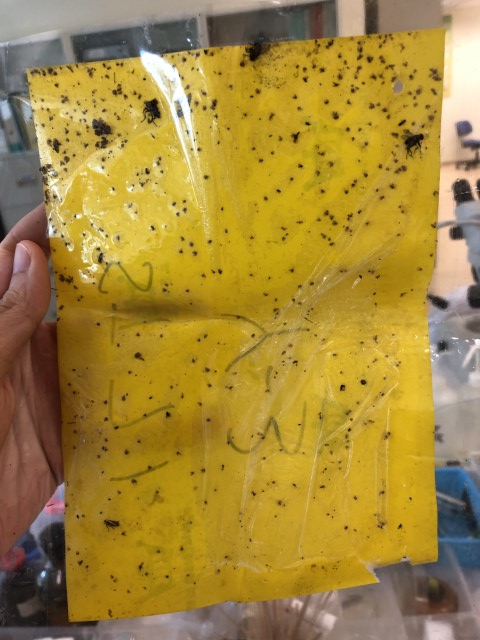DBM: (101, 517, 123, 533)
